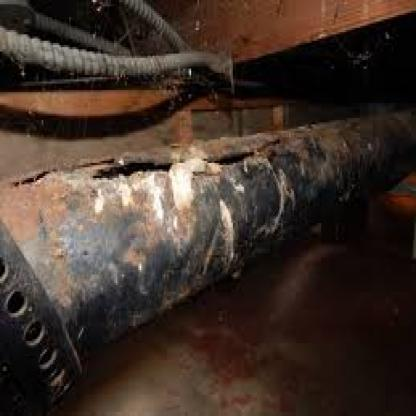burst: (204, 140, 269, 179), (89, 163, 195, 185)
